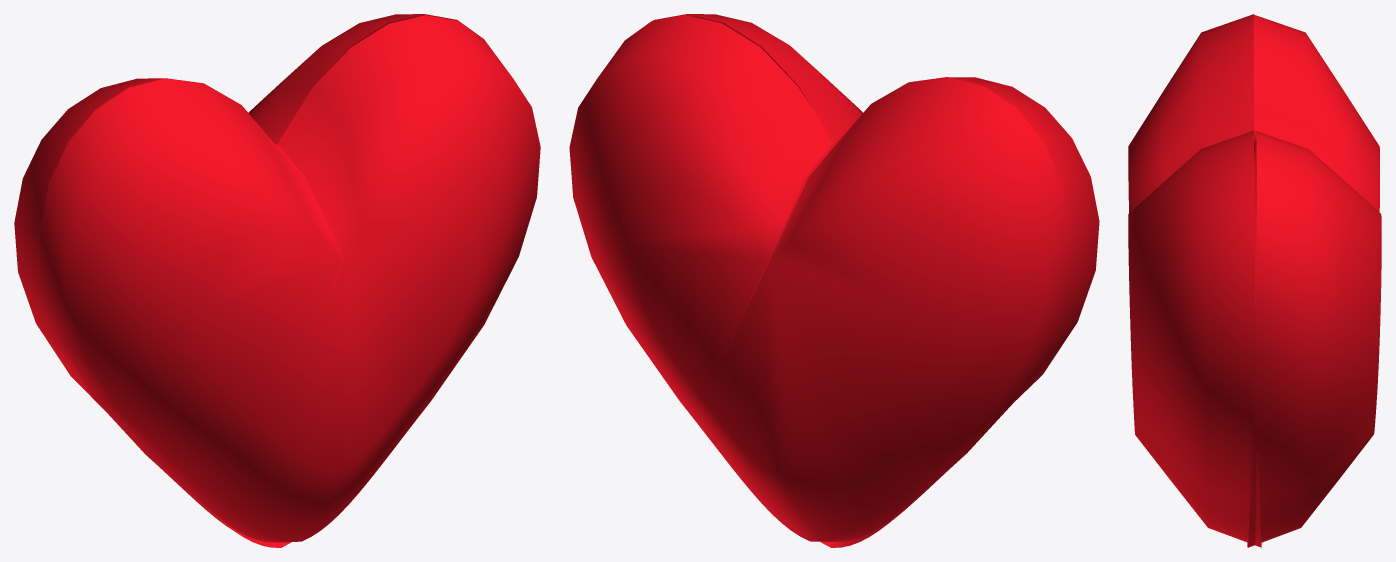
File: Spleunk_altheart.glb
The picture shows the model from 3 angles, left to right: view 1: azimuth 30°, elevation 25°; view 2: azimuth 150°, elevation 25°; view 3: azimuth 270°, elevation 25°; orthographic projection. The views are drawn at different scales.
Parts seen in each view (by area): view 1: obj_0.001; view 2: obj_0.001; view 3: obj_0.001.
Boxes of the visible parts, bbox=[...] form: obj_0.001: bbox=[14, 14, 540, 547]; obj_0.001: bbox=[569, 14, 1099, 547]; obj_0.001: bbox=[1128, 14, 1381, 547].
Size of the model in its own units: 15.02 by 15 by 7.46.
